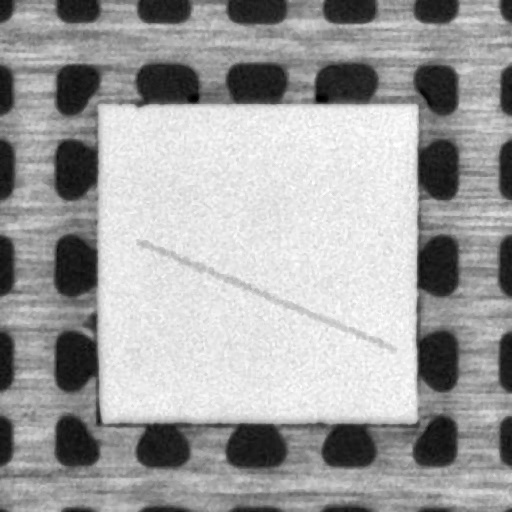DIE_CRACK: (138, 241, 393, 350)
